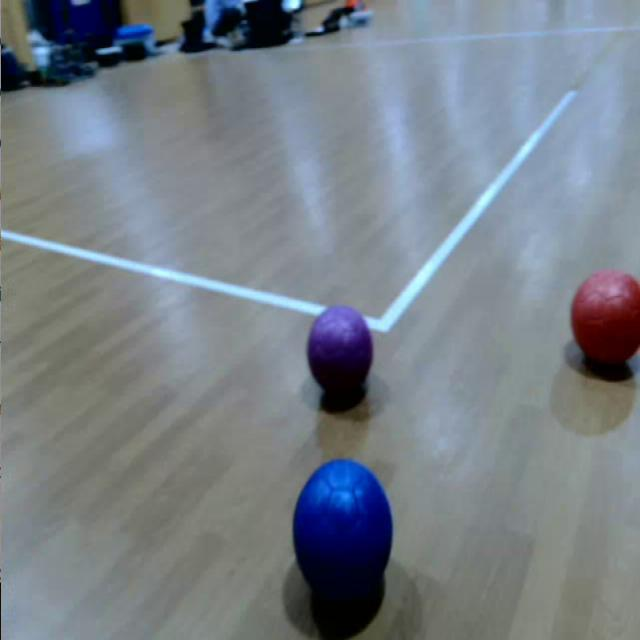blue_ball: (289, 454, 395, 616)
purple_ball: (306, 306, 375, 408)
red_ball: (570, 267, 640, 368)
